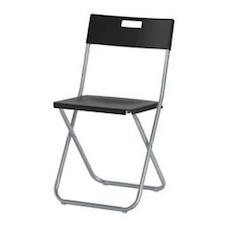chair: (9, 6, 213, 219)
